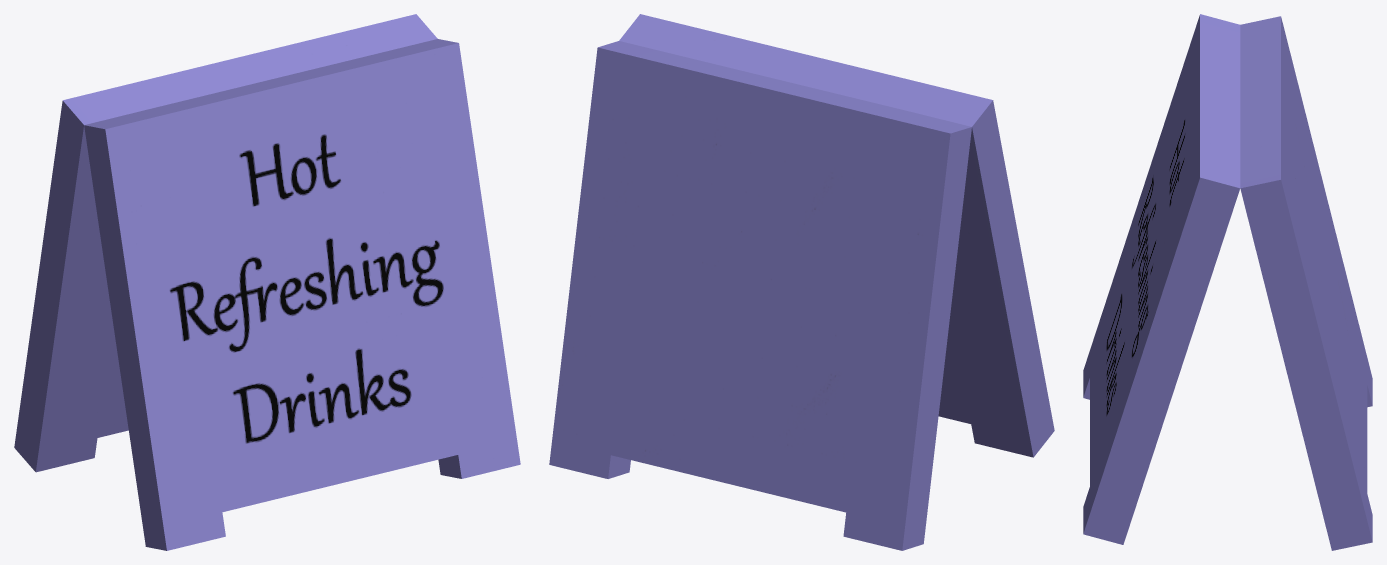
Rendered from ENV_sign_drinks.fbx.
The picture shows the model from 3 angles, left to right: view 1: azimuth 30°, elevation 25°; view 2: azimuth 150°, elevation 25°; view 3: azimuth 270°, elevation 25°; orthographic projection. The views are drawn at different scales.
Parts seen in each view (by area): view 1: pCube3; view 2: pCube3; view 3: pCube3.
Boxes of the visible parts, x1,y1,x2,y2 form: pCube3: [14, 14, 520, 550]; pCube3: [549, 14, 1054, 550]; pCube3: [1083, 14, 1372, 550].
Size of the model in its own units: 0.8939 by 0.9516 by 0.6686.
